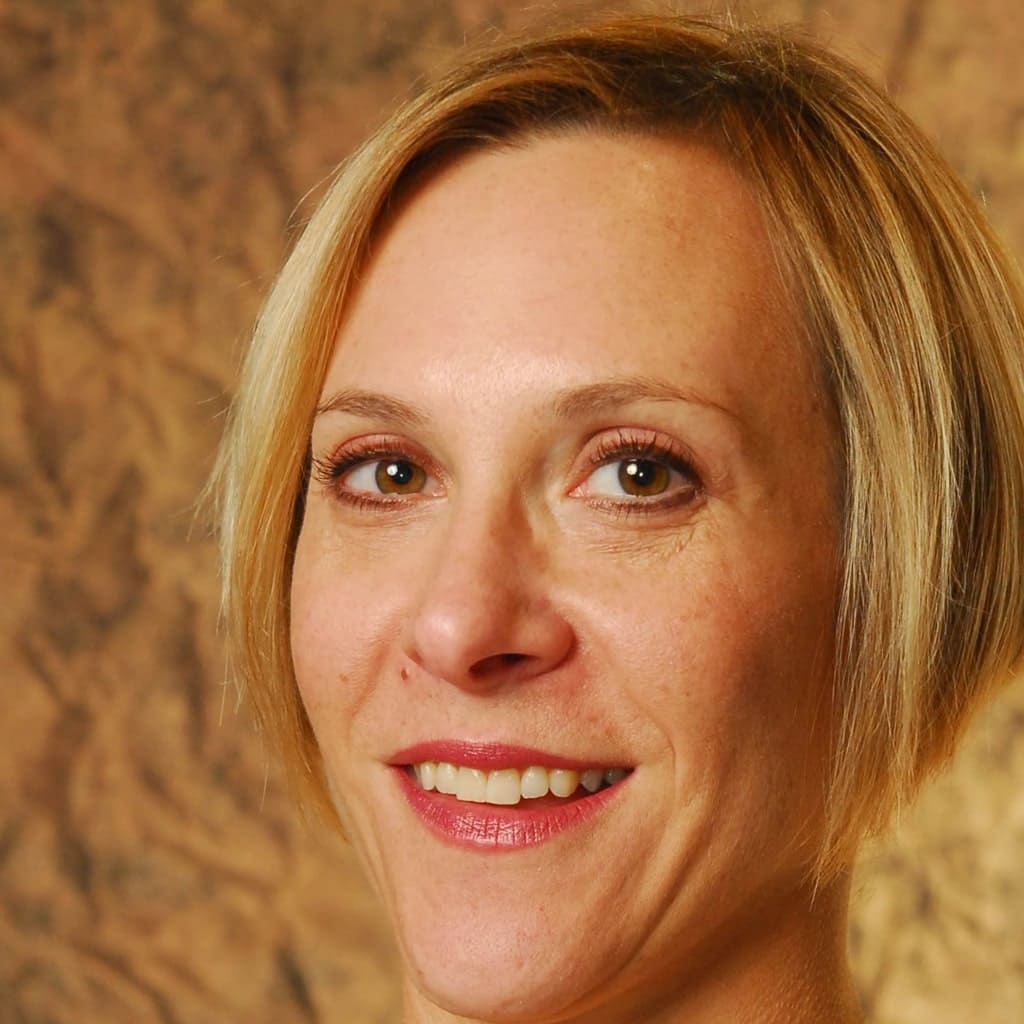without_mask: (298, 176, 817, 998)
